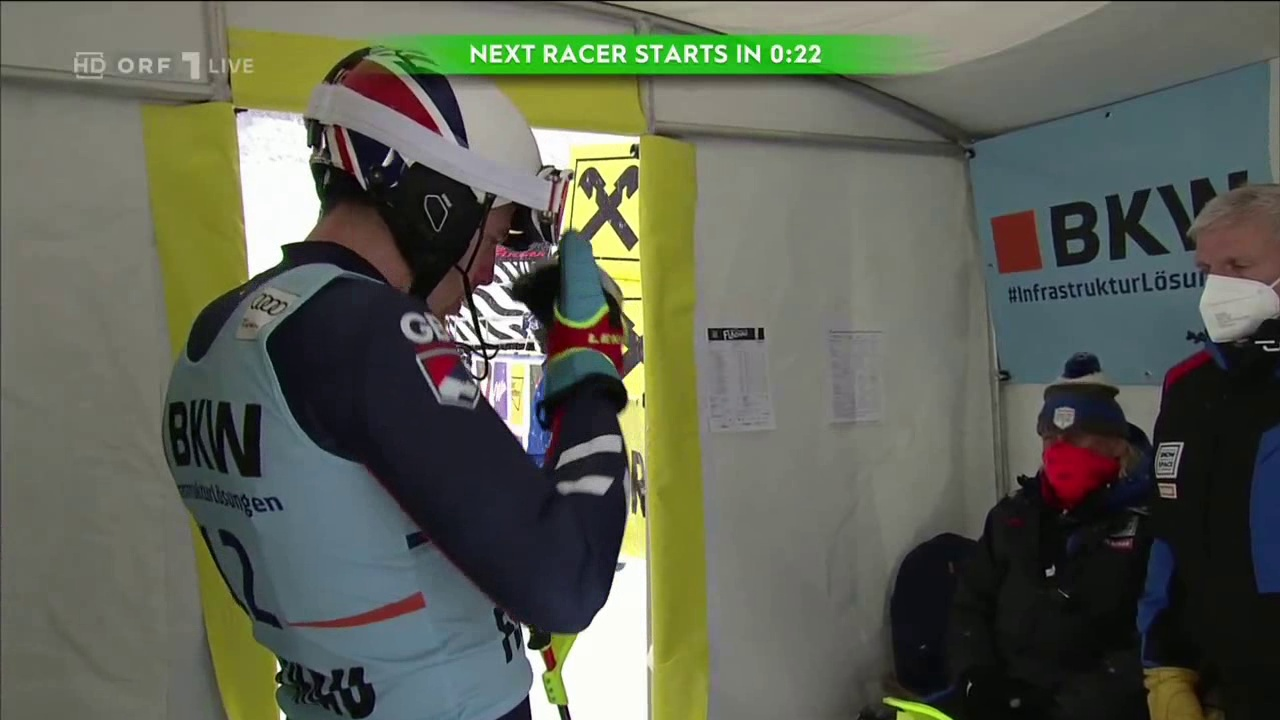raiffeisen: (568, 160, 647, 266)
